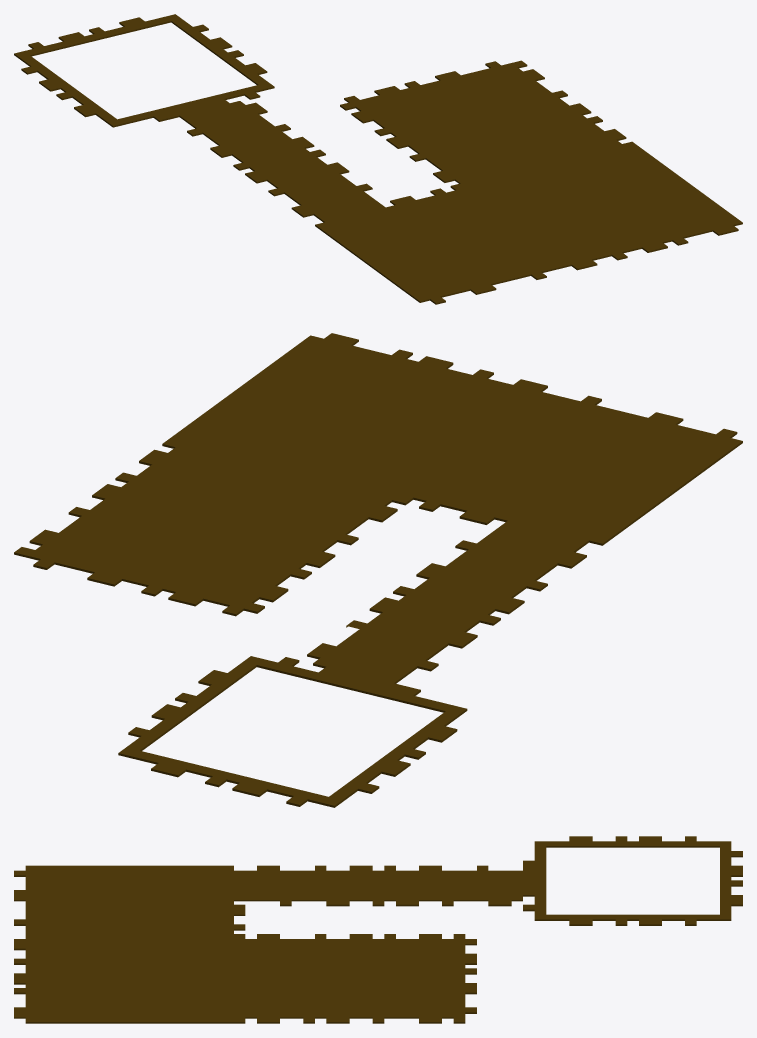
Rendered from House_Ground.fbx.
3 views of the same model, one above another, from view 1: azimuth 30°, elevation 25°; view 2: azimuth 150°, elevation 25°; view 3: azimuth 270°, elevation 25° (orthographic). The views are drawn at different scales.
Visible parts, largest first — view 1: House_Ground; view 2: House_Ground; view 3: House_Ground.
Part boxes in pixels (<box>): House_Ground: <box>14,14,742,304</box>; House_Ground: <box>14,333,742,807</box>; House_Ground: <box>14,836,742,1023</box>.
Bounding box in the file's own units: 38 × 0.1502 × 63.
